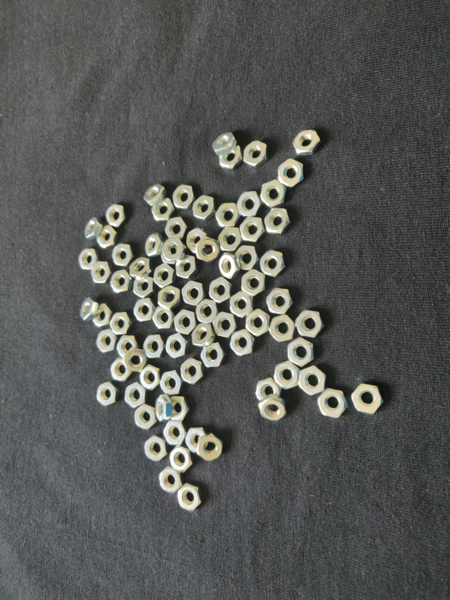nut: (298, 364, 329, 398), (352, 384, 385, 415), (318, 390, 350, 419), (297, 309, 326, 340), (260, 248, 288, 280), (259, 396, 288, 425), (264, 209, 293, 237), (243, 142, 273, 169), (241, 270, 269, 298), (177, 484, 204, 513), (266, 287, 297, 312), (288, 338, 315, 366), (269, 314, 297, 341), (260, 179, 287, 207), (292, 131, 323, 155), (197, 435, 224, 462), (143, 436, 169, 464), (275, 362, 301, 390), (279, 161, 307, 187), (240, 214, 265, 243), (230, 329, 256, 356), (247, 309, 273, 336), (216, 253, 242, 280), (213, 311, 238, 338), (196, 237, 221, 264), (181, 356, 203, 386), (208, 278, 234, 303), (192, 196, 218, 221), (165, 333, 189, 360), (216, 203, 243, 227), (238, 191, 263, 216), (162, 421, 188, 445), (160, 370, 184, 396), (202, 342, 226, 368), (173, 184, 198, 208), (152, 197, 177, 221), (256, 377, 282, 400), (231, 292, 254, 318), (219, 227, 245, 250), (160, 468, 182, 495), (221, 146, 245, 170), (161, 238, 185, 262), (151, 308, 175, 332), (96, 329, 119, 354), (195, 298, 217, 324), (132, 277, 158, 299), (186, 229, 206, 257), (174, 310, 197, 334), (144, 336, 168, 359), (111, 312, 135, 335), (186, 425, 205, 454), (95, 382, 117, 407), (135, 405, 156, 431), (141, 364, 162, 390), (170, 449, 193, 472), (95, 226, 118, 249), (183, 281, 205, 305), (105, 203, 127, 227), (134, 299, 158, 321), (123, 348, 147, 370), (112, 243, 134, 267), (169, 396, 190, 421), (126, 383, 147, 408), (176, 256, 197, 280), (192, 324, 215, 345), (91, 262, 114, 283), (143, 185, 167, 205), (239, 245, 258, 270), (164, 218, 189, 237), (160, 286, 182, 307), (110, 357, 130, 380), (156, 262, 175, 286), (212, 134, 238, 151), (111, 271, 132, 292), (78, 250, 98, 272), (119, 335, 139, 356), (132, 257, 153, 277), (145, 233, 164, 255), (156, 395, 171, 422), (80, 299, 98, 321), (84, 218, 102, 238), (95, 305, 110, 328)
